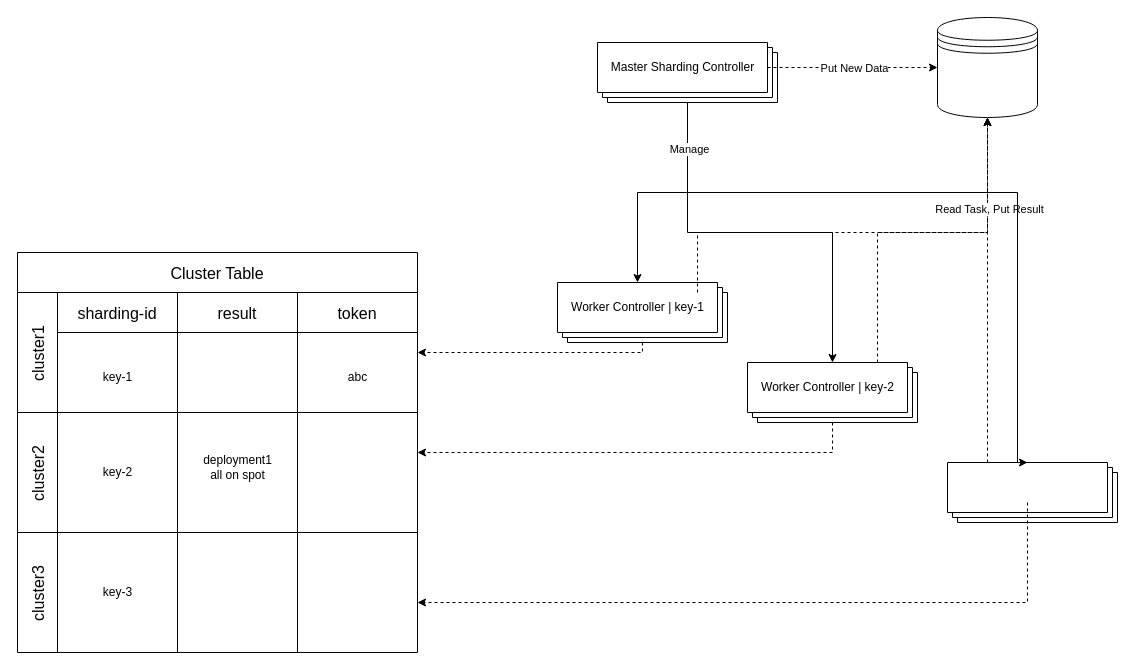
Image size: 1135x670. Some labels were removed from this diagram. Here are the shapes that lost their labels. From the top down, the centre of each, then its label:
At (987,67): "DataBase".
At (1032,492): "Worker Controller | key-3".
